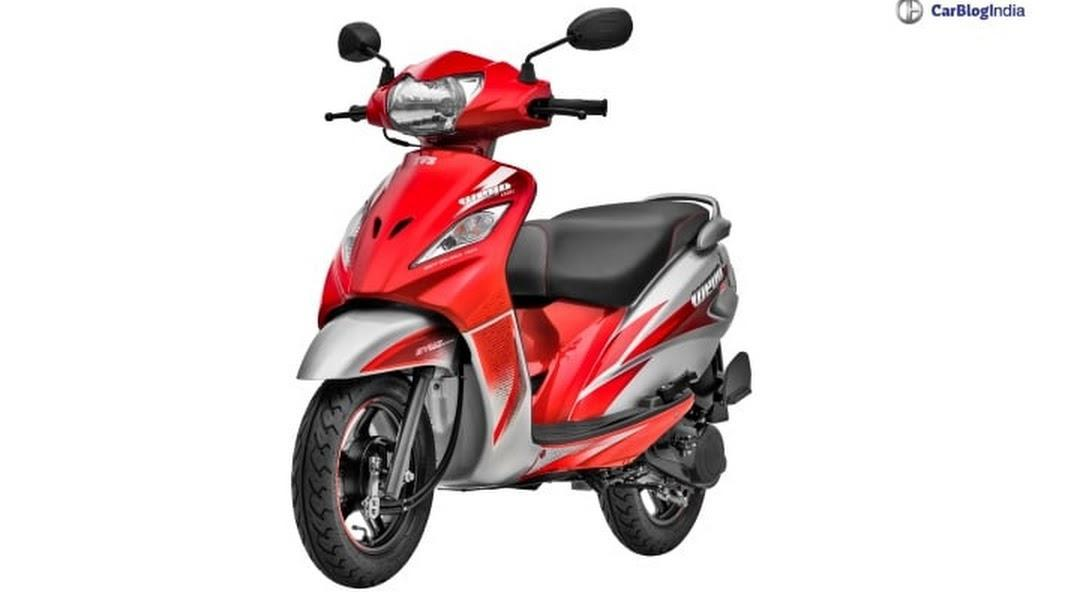motorbike: (289, 7, 753, 588)
